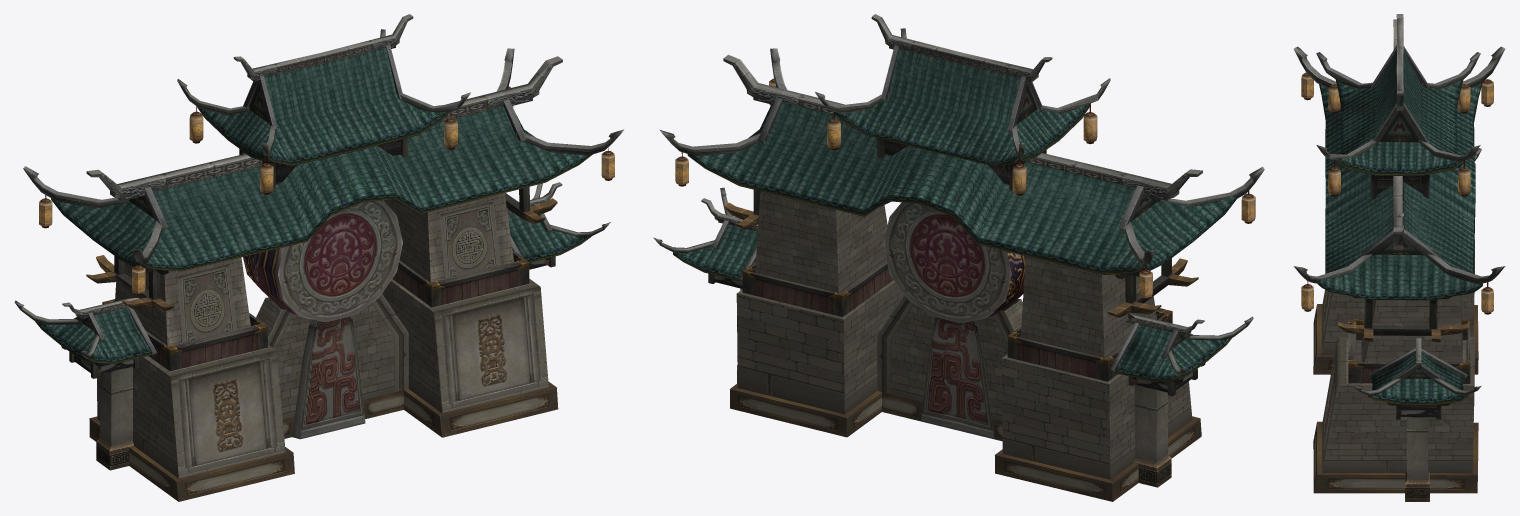
File: s7_unioncity_jianzhu_xiaochang_01.FBX
3 views of the same model, side by side, from view 1: azimuth 30°, elevation 25°; view 2: azimuth 150°, elevation 25°; view 3: azimuth 270°, elevation 25° (orthographic). The views are drawn at different scales.
Parts seen in each view (by area): view 1: Object028, Object01vveeer; view 2: Object028, Object01vveeer; view 3: Object028, Object01vveeer.
Boxes of the visible parts, bbox=[...] form: Object028: bbox=[14, 14, 624, 501]; Object01vveeer: bbox=[35, 47, 592, 363]; Object028: bbox=[653, 14, 1264, 501]; Object01vveeer: bbox=[673, 48, 1236, 381]; Object028: bbox=[1293, 14, 1505, 501]; Object01vveeer: bbox=[1318, 49, 1482, 404].
Bounding box in the file's own units: 32.59 × 22.58 × 12.23.
3 materials, 3 textured.
